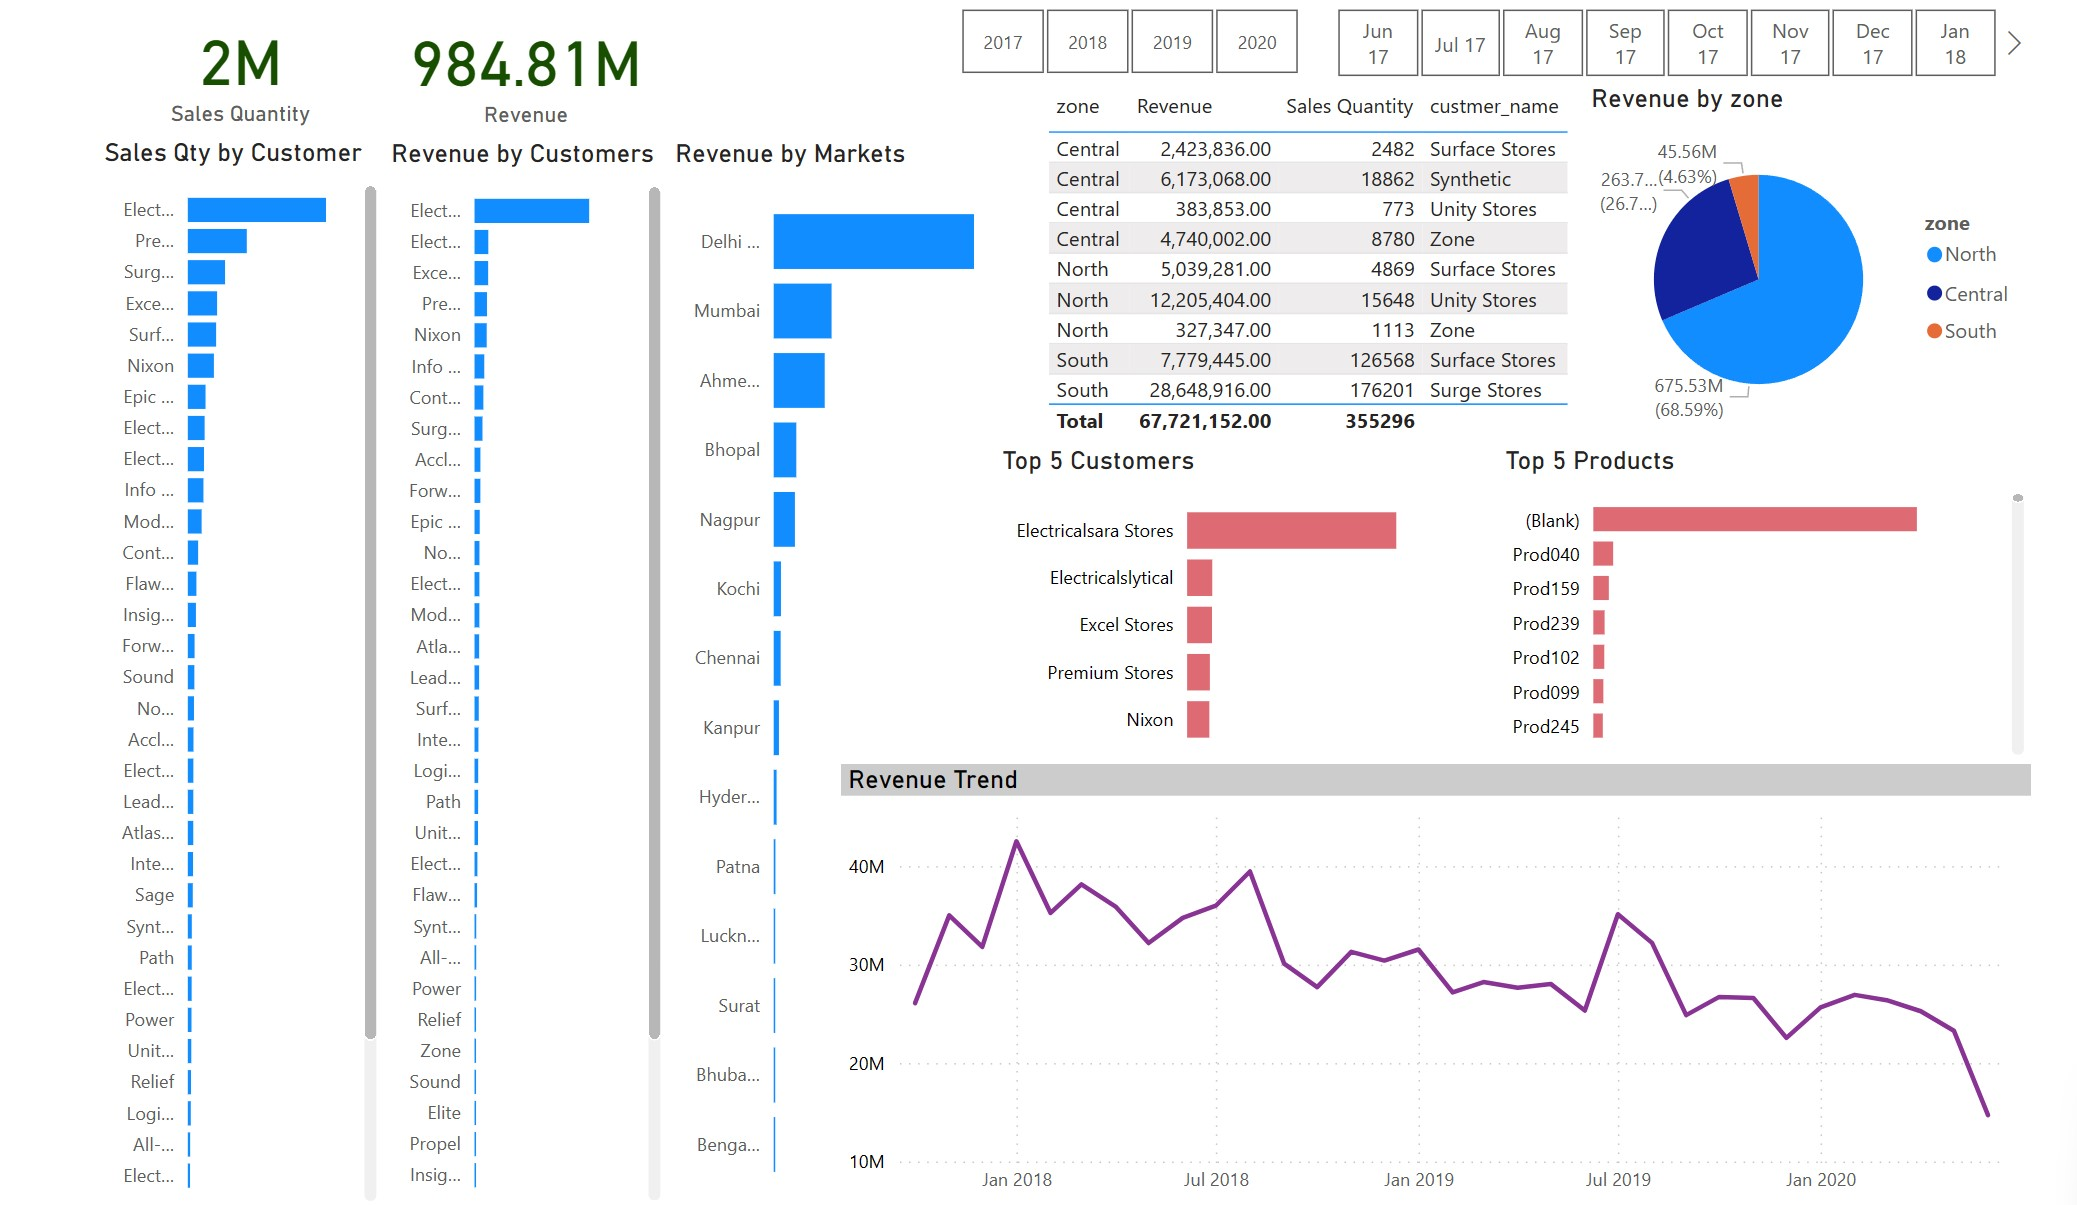

This screenshot's page, from the dashboard's own definition file:
{"tool":"powerbi","page":{"name":"Page 1","canvas":[1280,800],"ordinal":0},"visuals":[{"type":"card","fields":{"Values":["Base Measures.Revenue"]},"box":[189.7,0,188.3,92.1],"z":0},{"type":"card","fields":{"Values":["Base Measures.Sales Quantity"]},"box":[0,0,189.7,91.4],"z":1000},{"type":"barChart","title":"Sales Qty by Customer","fields":{"Y":["Base Measures.Sales Quantity"],"Category":["sales customers.custmer_name"]},"box":[0,91.4,189.7,708.6],"z":2000},{"type":"barChart","title":"Revenue by Customers","fields":{"Category":["sales customers.custmer_name"],"Y":["Base Measures.Revenue"]},"box":[189.7,92.1,188.3,707.9],"z":3000},{"type":"slicer","fields":{"Values":["sales date.year"]},"box":[546.4,0,272.2,55.7],"z":4000},{"type":"slicer","fields":{"Values":["sales date.cy_date"]},"box":[795.2,0,484.5,55.7],"z":5000},{"type":"barChart","title":"Revenue by Markets","fields":{"Category":["sales markets.markets_name"],"Y":["Base Measures.Revenue"]},"box":[378,92.1,228.2,707.9],"z":6000},{"type":"barChart","title":"Top 5 Customers","fields":{"Y":["Base Measures.Revenue"],"Category":["sales customers.custmer_name"]},"box":[594.5,294.8,332.6,211.7],"z":6001},{"type":"barChart","title":"Top 5 Products","fields":{"Y":["Base Measures.Revenue"],"Category":["sales products.product_code"]},"box":[927.1,294.8,352.6,210.3],"z":6002},{"type":"lineChart","title":"Revenue Trend","fields":{"Y":["Base Measures.Revenue"],"Category":["sales date.cy_date"]},"box":[492.1,506.5,787.6,293.5],"z":6003},{"type":"tableEx","fields":{"Values":["sales markets.zone","Base Measures.Revenue","Base Measures.Sales Quantity","sales customers.custmer_name"]},"box":[624.1,55.7,360.1,240.5],"z":6004},{"type":"pieChart","fields":{"Y":["Base Measures.Revenue"],"Category":["sales markets.zone"]},"box":[984.2,55.7,295.5,240.5],"z":6005}]}

Visuals, with their boxes in screenshot pixels (x1, y1, x2, y2):
card - Base Measures.Revenue: [x1=191, y1=70, x2=461, y2=202]
card - Base Measures.Sales Quantity: [x1=0, y1=70, x2=191, y2=201]
"Sales Qty by Customer" barChart: [x1=0, y1=201, x2=191, y2=1204]
"Revenue by Customers" barChart: [x1=191, y1=202, x2=461, y2=1204]
slicer - sales date.year: [x1=702, y1=70, x2=1093, y2=150]
slicer - sales date.cy_date: [x1=1059, y1=70, x2=1754, y2=150]
"Revenue by Markets" barChart: [x1=461, y1=202, x2=788, y2=1204]
"Top 5 Customers" barChart: [x1=771, y1=493, x2=1248, y2=797]
"Top 5 Products" barChart: [x1=1248, y1=493, x2=1754, y2=795]
"Revenue Trend" lineChart: [x1=625, y1=797, x2=1754, y2=1204]
tableEx - sales markets.zone x Base Measures.Revenue: [x1=814, y1=150, x2=1330, y2=495]
pieChart - Base Measures.Revenue x sales markets.zone: [x1=1330, y1=150, x2=1754, y2=495]
